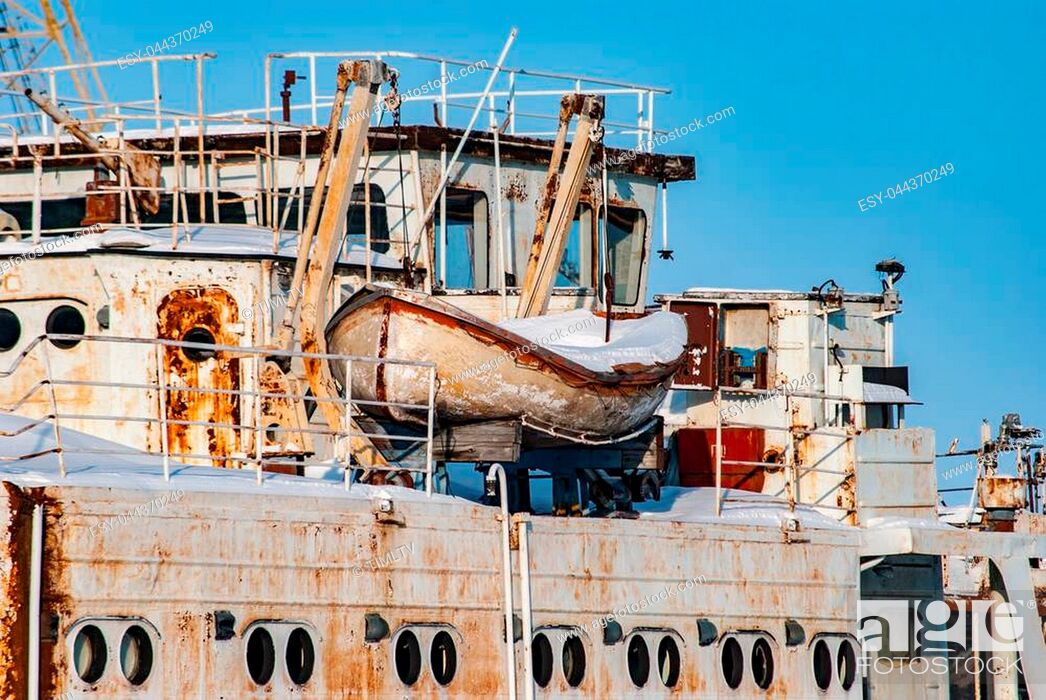rust: (157, 300, 243, 453), (7, 499, 64, 700), (325, 623, 376, 697), (682, 305, 717, 386), (84, 185, 114, 221)
